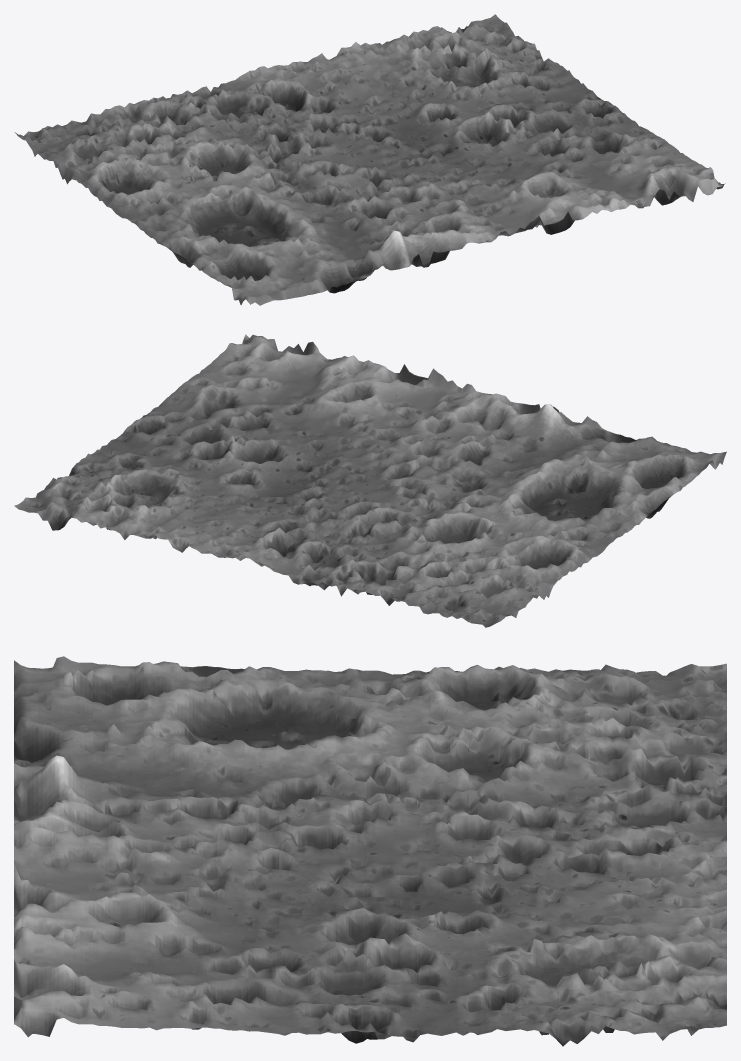
The model's file is LunaPlana.fbx.
3 renders of one model, top to bottom at view 1: azimuth 30°, elevation 25°; view 2: azimuth 150°, elevation 25°; view 3: azimuth 270°, elevation 25°, orthographic. The views are drawn at different scales.
Visible parts, largest first — view 1: pPlane1; view 2: pPlane1; view 3: pPlane1.
Part boxes in pixels (x1,y1,x2,y2): pPlane1: (14,14,725,305); pPlane1: (14,334,726,627); pPlane1: (14,656,726,1046).
Bounding box in the file's own units: 1200 × 104 × 1000.
1 material, 1 textured.
